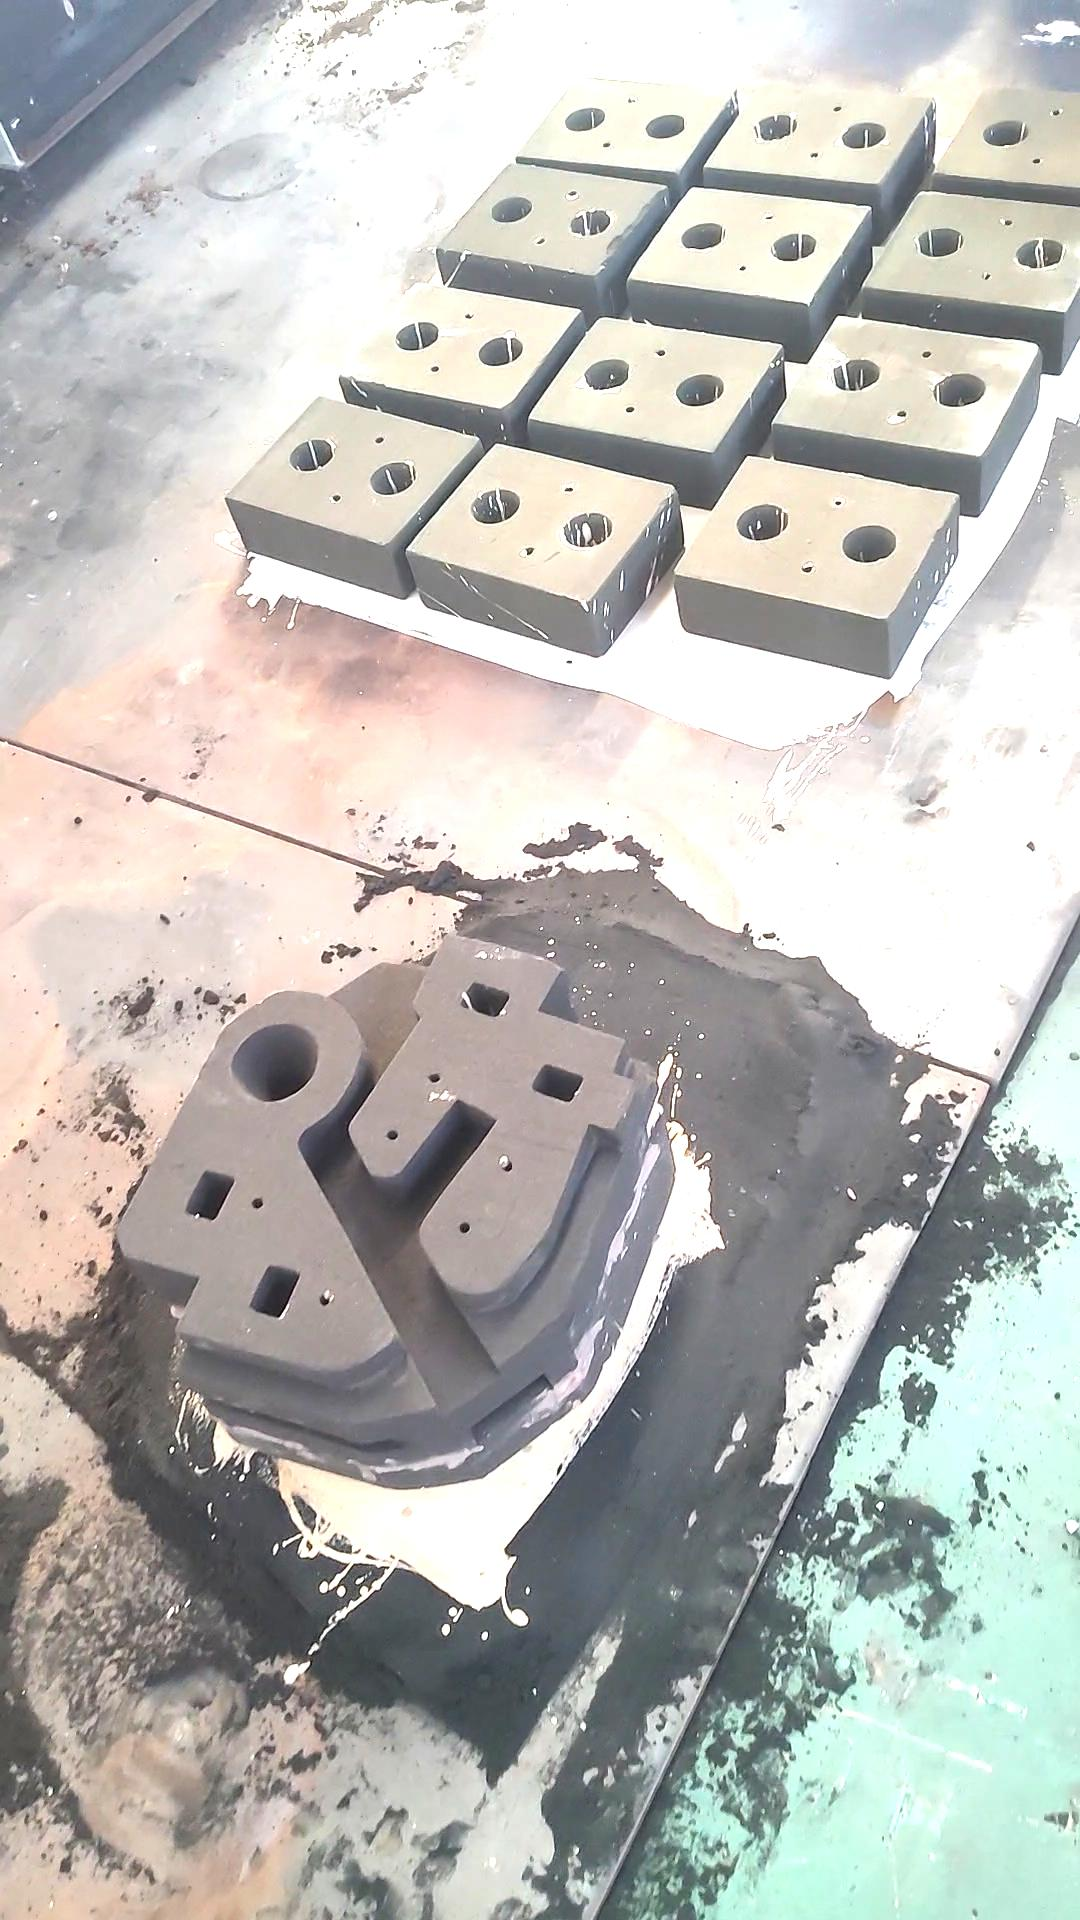pouring hole: (229, 1025, 319, 1102), (735, 502, 789, 541), (844, 526, 895, 562), (934, 372, 986, 406), (471, 488, 521, 524), (563, 512, 612, 547), (1014, 237, 1065, 268), (833, 359, 880, 392), (676, 375, 724, 406), (914, 228, 963, 258), (371, 462, 415, 495), (583, 360, 628, 392), (477, 338, 524, 367), (290, 440, 334, 471), (982, 120, 1029, 146), (770, 233, 816, 260), (396, 322, 439, 349), (843, 123, 886, 149), (491, 196, 531, 223), (682, 223, 723, 249), (570, 211, 611, 236), (754, 116, 796, 140), (646, 113, 684, 138), (566, 108, 604, 131)
